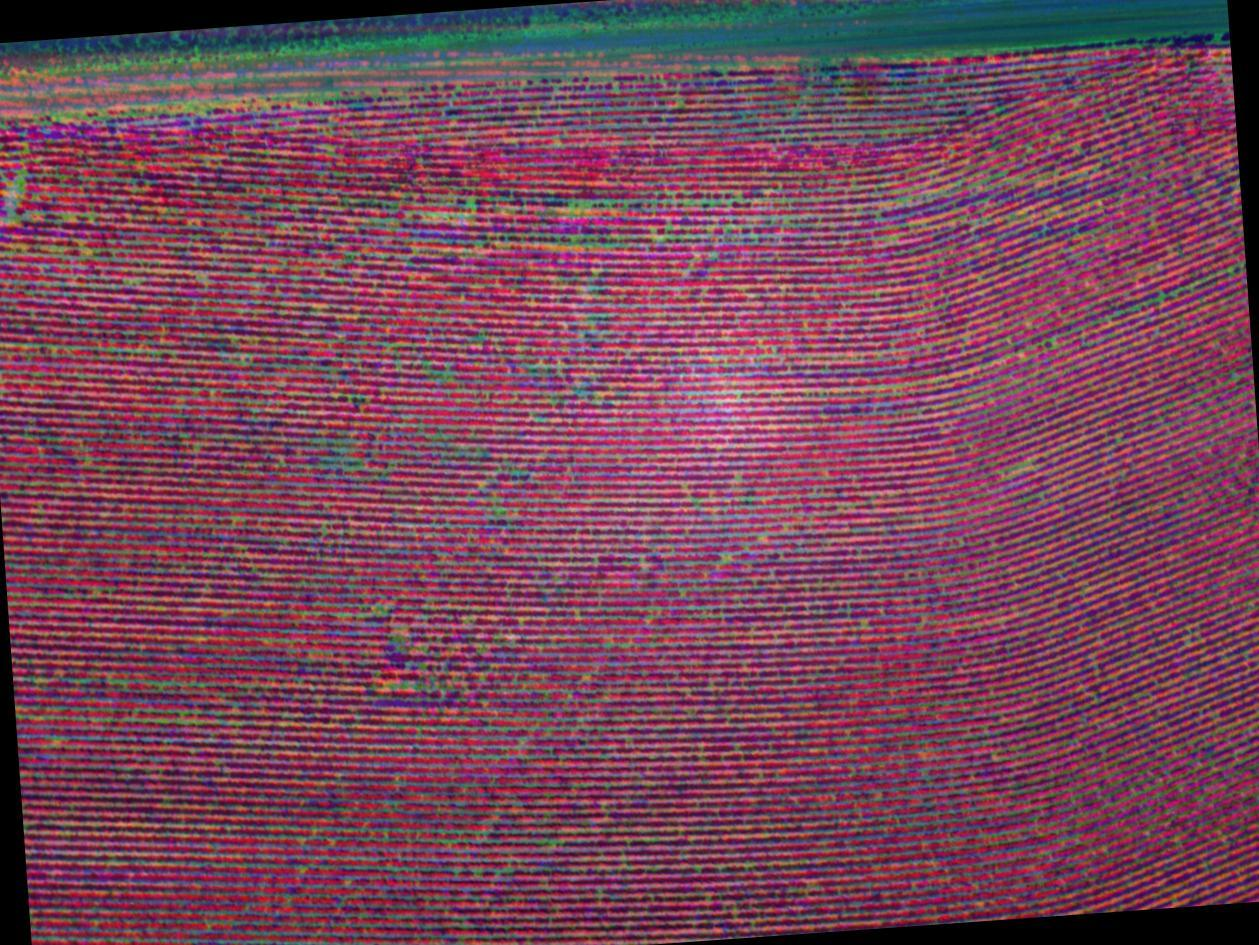dc: (305, 405, 406, 500), (549, 172, 701, 228), (398, 175, 501, 247), (0, 141, 65, 250)
